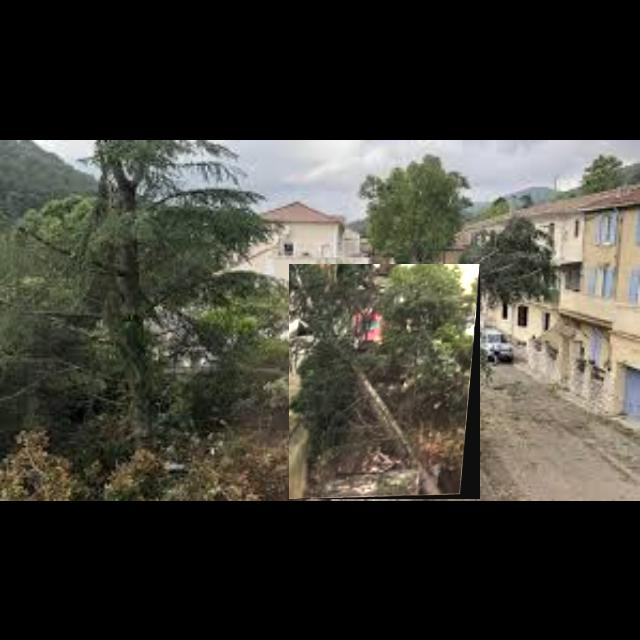Fallen Tree: (289, 264, 481, 500)
